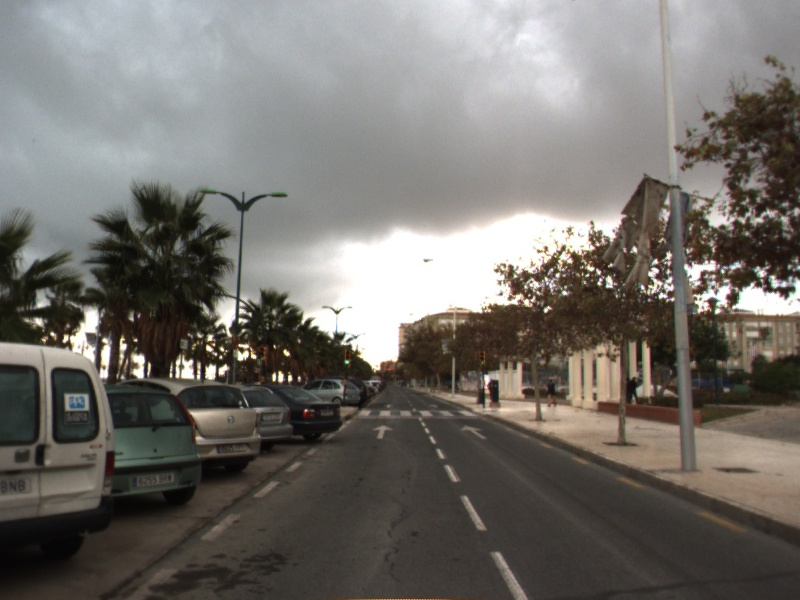STRAIGHT: (459, 423, 490, 441), (370, 423, 396, 440)
